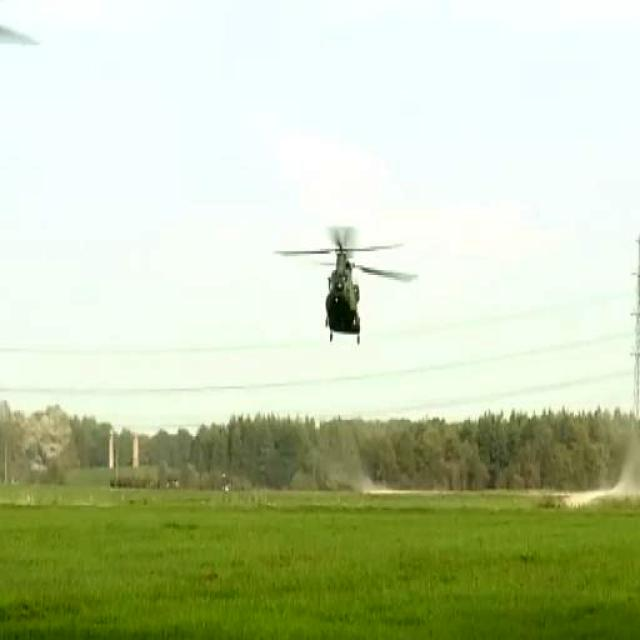drone: (268, 211, 419, 365)
